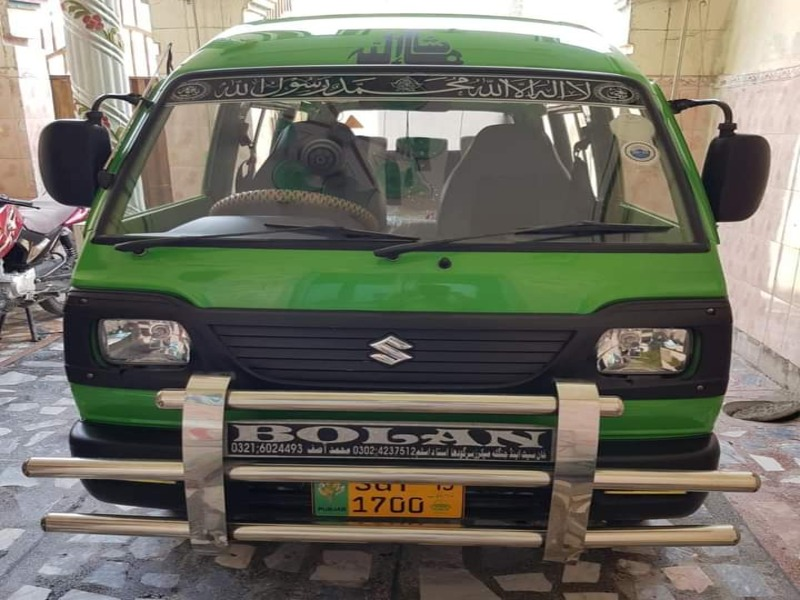License Plate: (308, 478, 468, 521)
